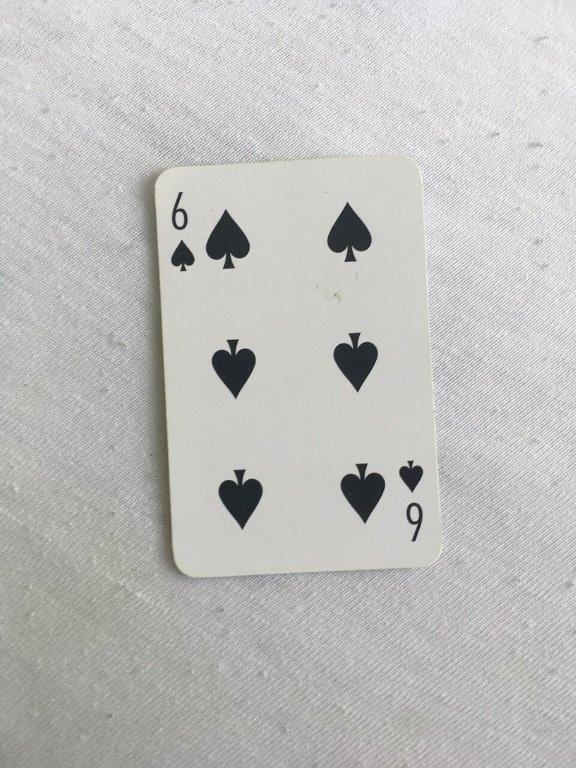6S: (151, 152, 447, 580)
